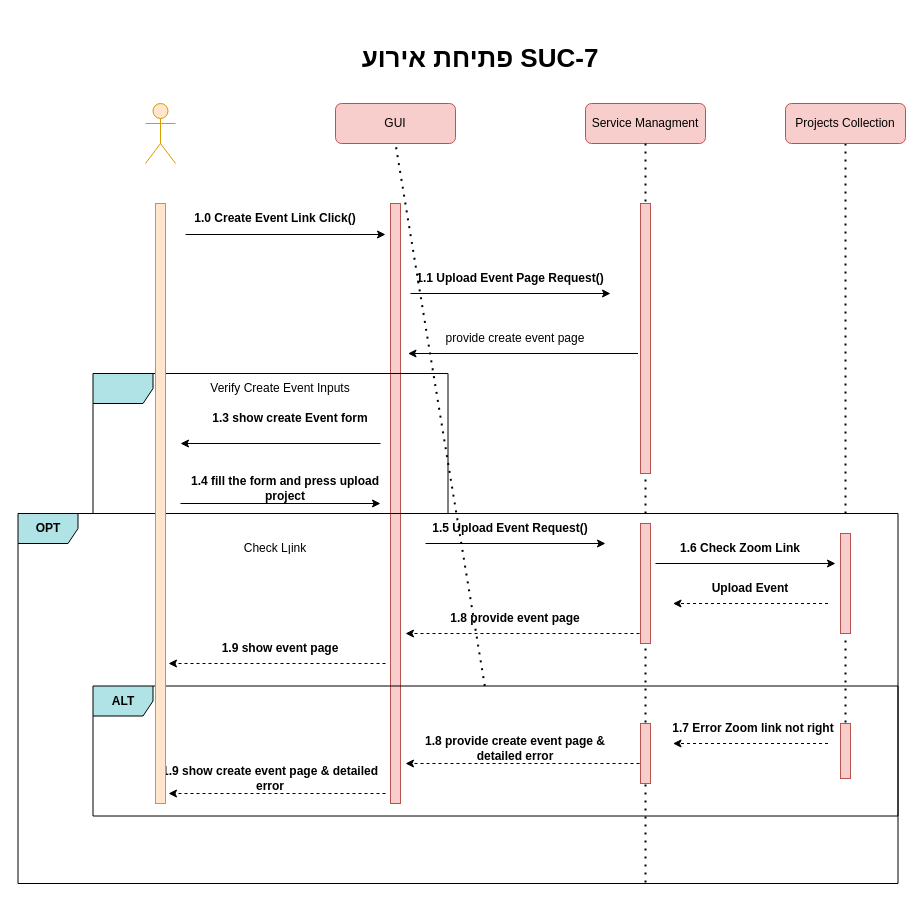
The diagram is 923 pixels wide and 902 high, and some of its shapes have lost their labels. The box of each missing label's shape, as (x1, y1, x2, y2) in pixels:
logged in user: (144, 102, 176, 164)
LOOP: (92, 372, 448, 514)
